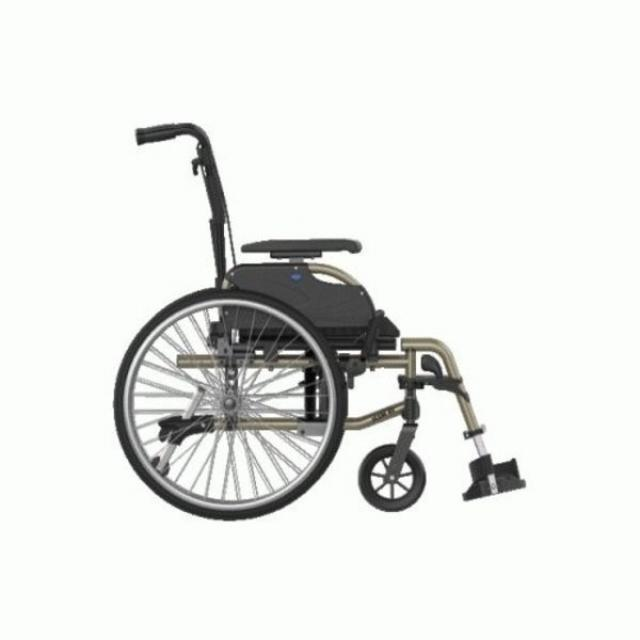wheelchair: (84, 73, 542, 541)
